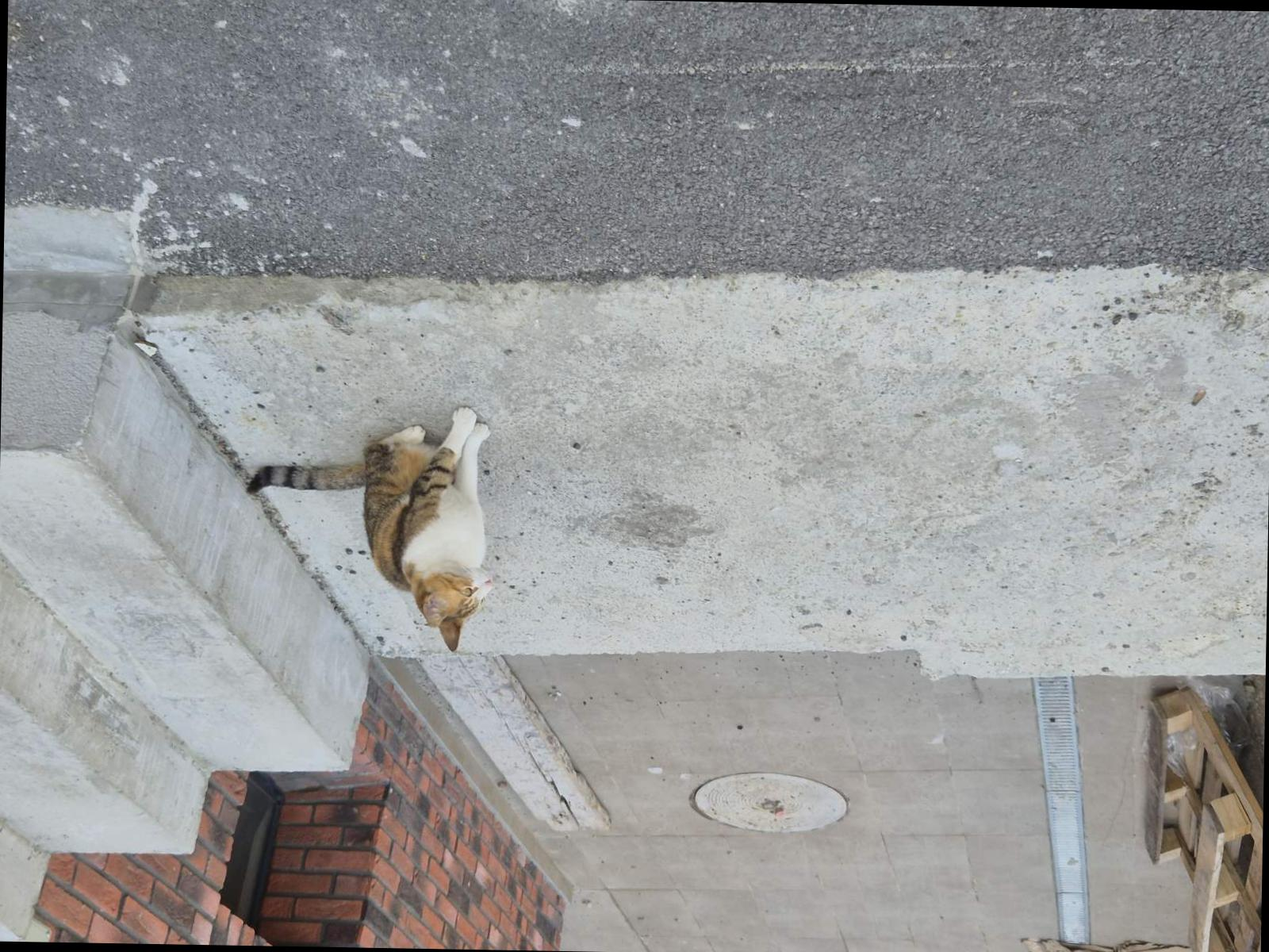macka: (243, 403, 498, 653)
